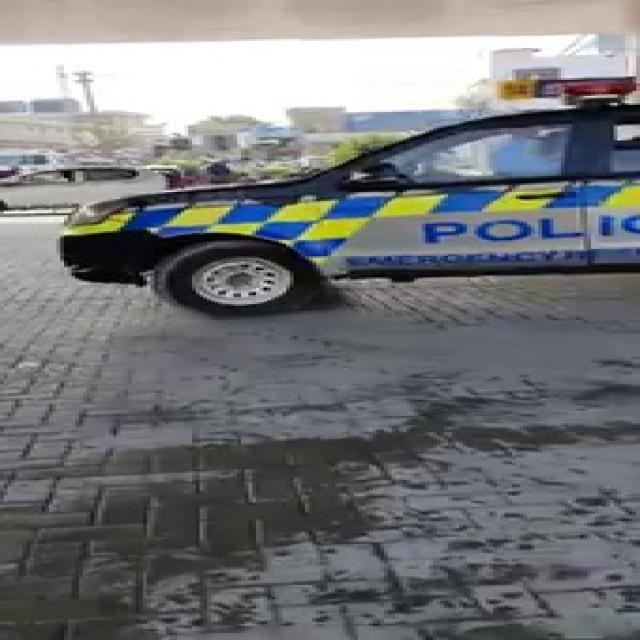police: (15, 78, 640, 284)
